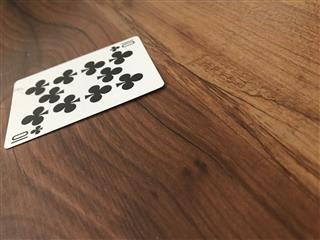TenOfClubs: (2, 35, 164, 149)
